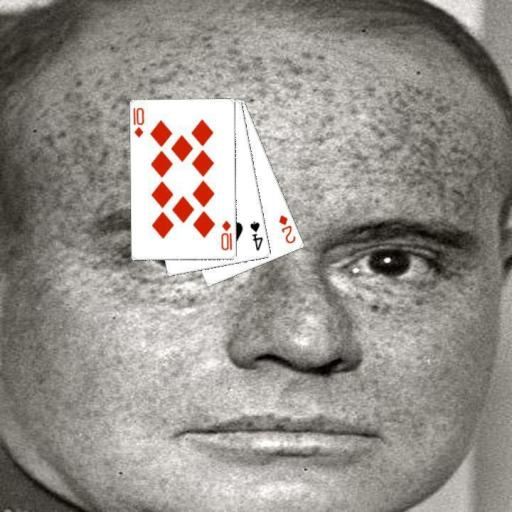card-corner: (276, 212, 297, 245), (246, 218, 264, 252), (218, 218, 234, 252), (131, 104, 146, 140)
